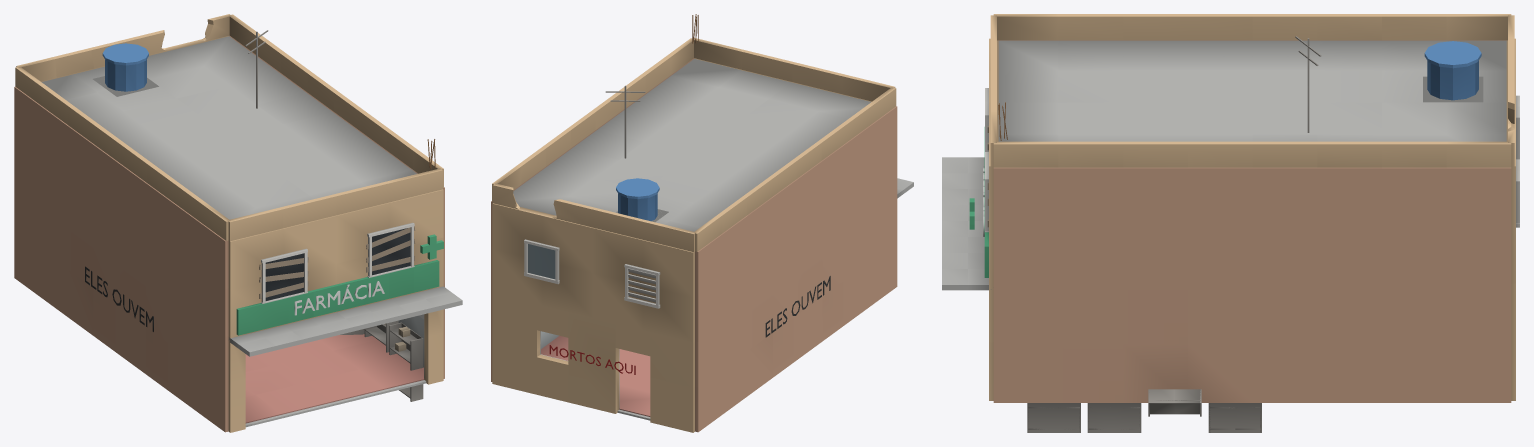
The model's file is sobrado_1.glb.
3 renders of one model, left to right at view 1: azimuth 30°, elevation 25°; view 2: azimuth 150°, elevation 25°; view 3: azimuth 270°, elevation 25°, orthographic. The views are drawn at different scales.
Parts seen in each view (by area): view 1: longe, ext, dentro, detalhe; view 2: ext, longe, detalhe, dentro; view 3: ext, longe, dentro, detalhe.
Boxes of the visible parts, bbox=[...] form: longe: bbox=[15, 14, 462, 356]; ext: bbox=[14, 35, 444, 432]; dentro: bbox=[245, 314, 426, 427]; detalhe: bbox=[85, 30, 443, 331]; ext: bbox=[491, 58, 897, 432]; longe: bbox=[492, 38, 913, 252]; detalhe: bbox=[524, 14, 830, 374]; dentro: bbox=[540, 331, 650, 420]; ext: bbox=[989, 38, 1515, 402]; longe: bbox=[942, 14, 1514, 290]; dentro: bbox=[1027, 389, 1261, 432]; detalhe: bbox=[969, 36, 1519, 236].
Size of what is drawn, in the model's own units: 7.74 by 9.29 by 13.4.
